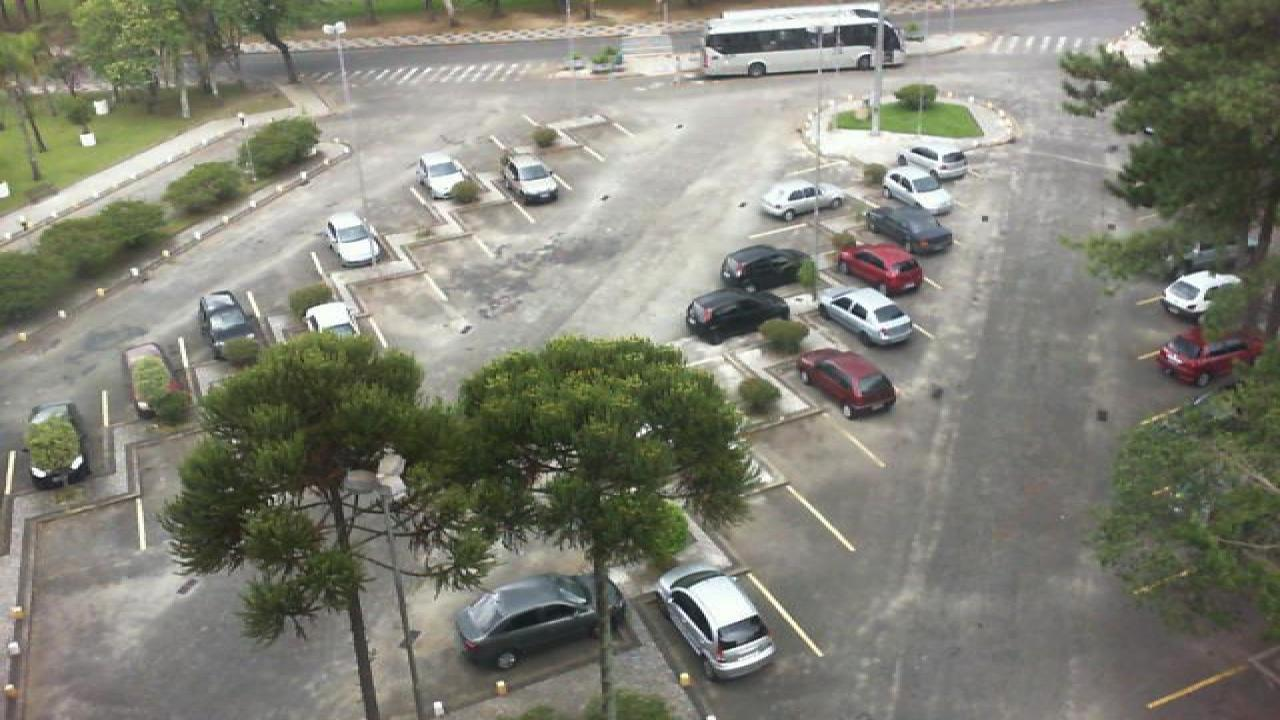Car: (452, 575, 624, 669), (654, 564, 778, 682), (794, 348, 900, 420), (1156, 326, 1258, 388), (818, 286, 918, 348), (684, 288, 792, 345), (22, 403, 90, 488), (198, 288, 264, 362), (834, 243, 926, 295), (862, 205, 956, 255), (124, 344, 186, 419), (718, 244, 804, 297), (1162, 270, 1244, 320), (760, 176, 844, 222), (880, 167, 956, 217), (322, 211, 384, 266), (500, 157, 560, 206), (416, 151, 474, 201), (896, 144, 970, 182), (304, 299, 364, 342)
